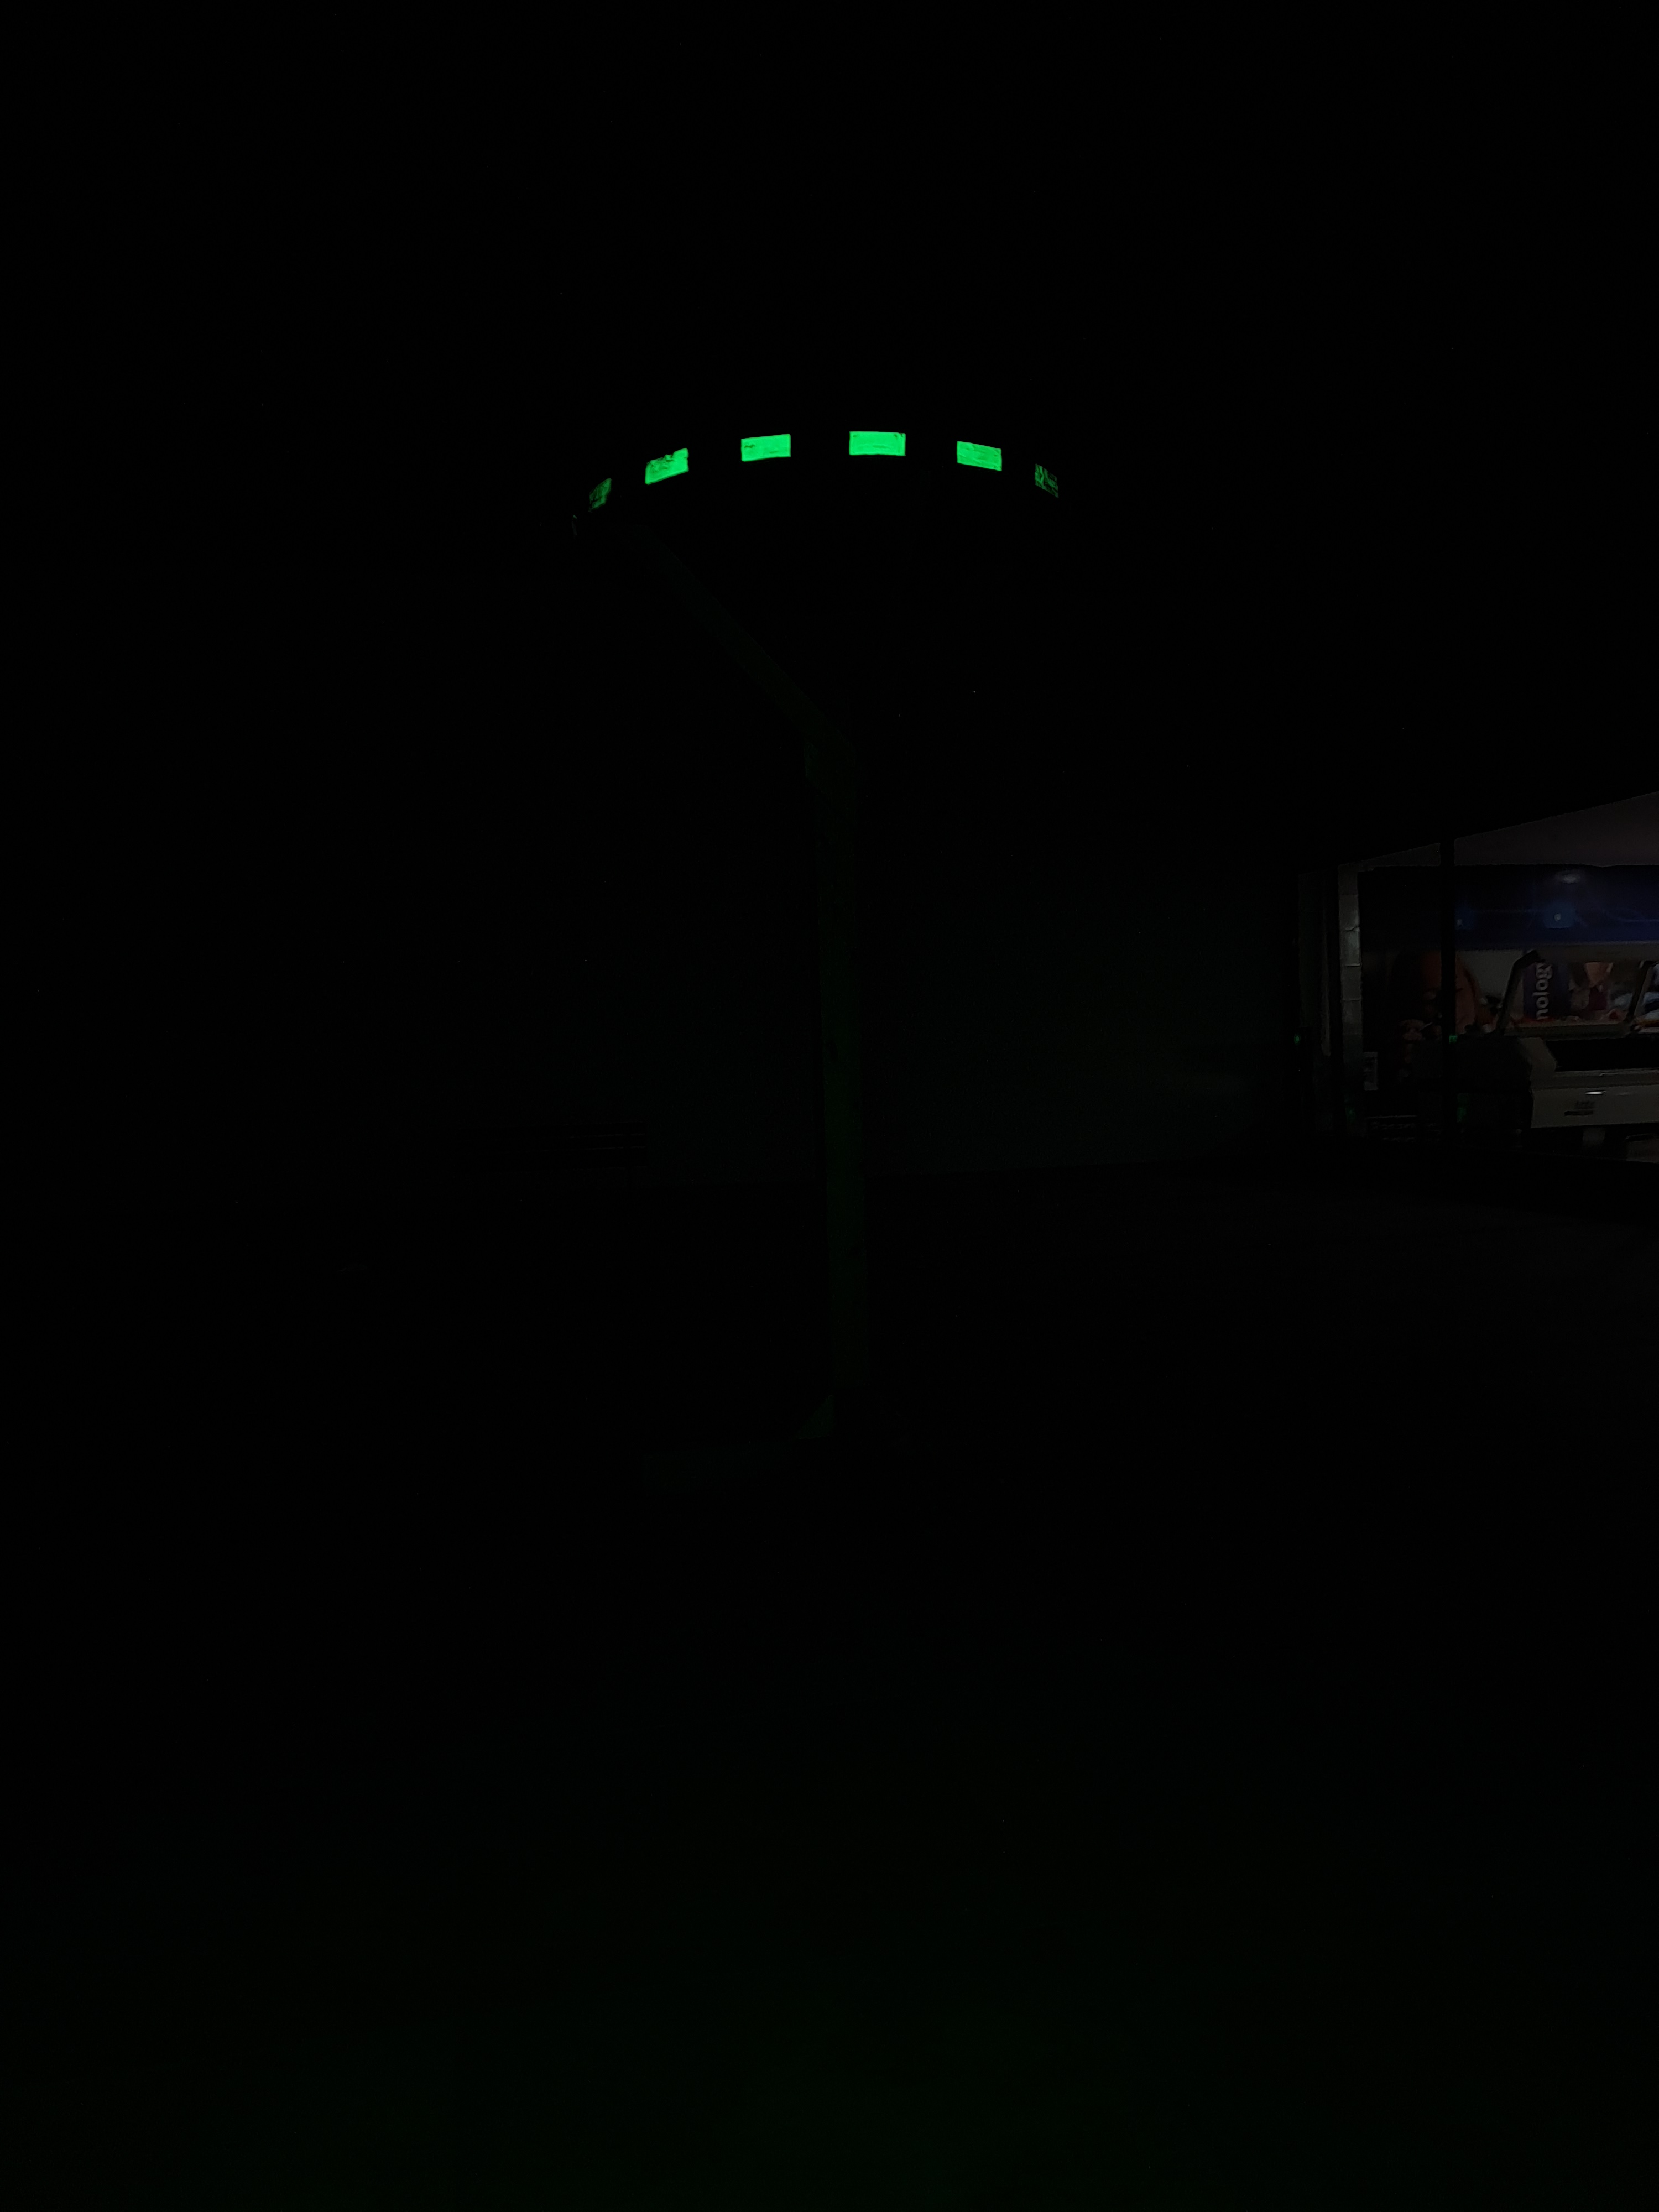hoop: (542, 406, 1073, 521)
